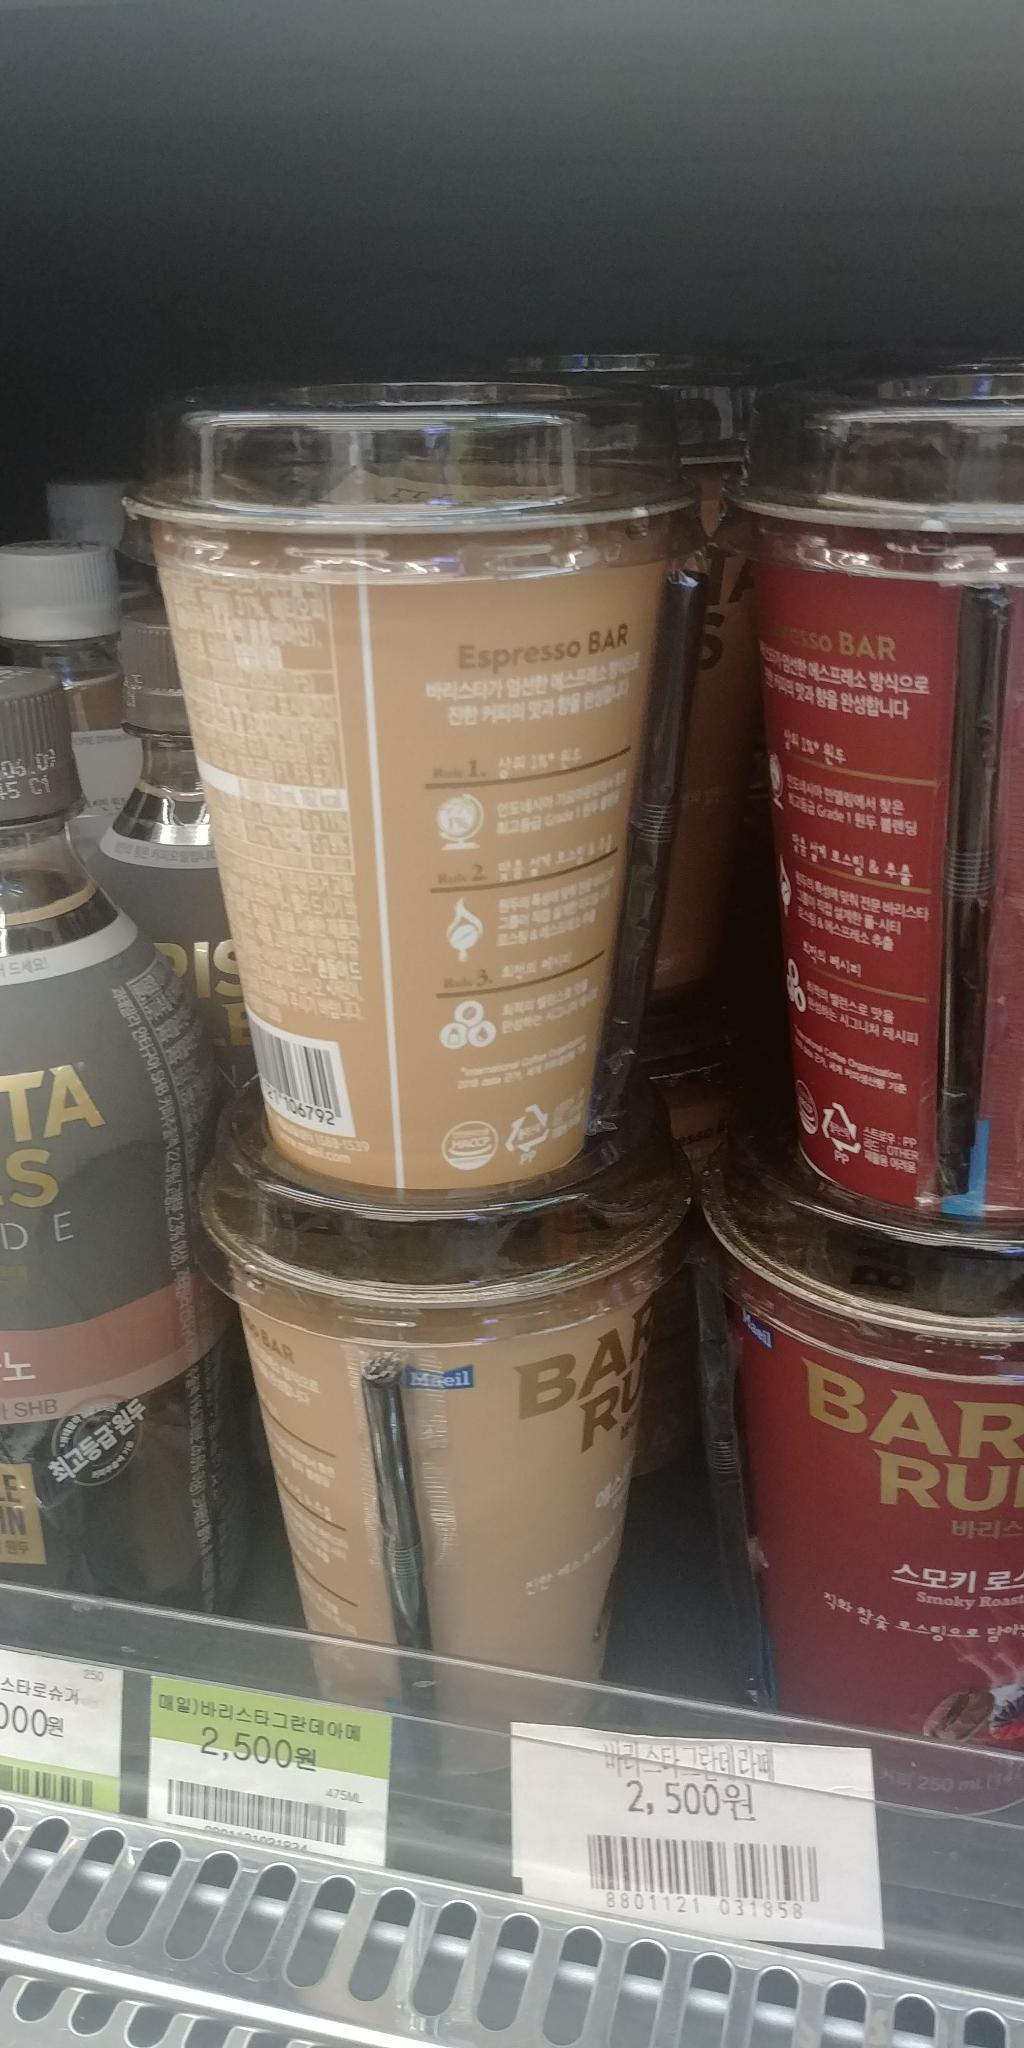baristarules_espressolatte: (125, 364, 686, 1198), (189, 1091, 696, 1762)
